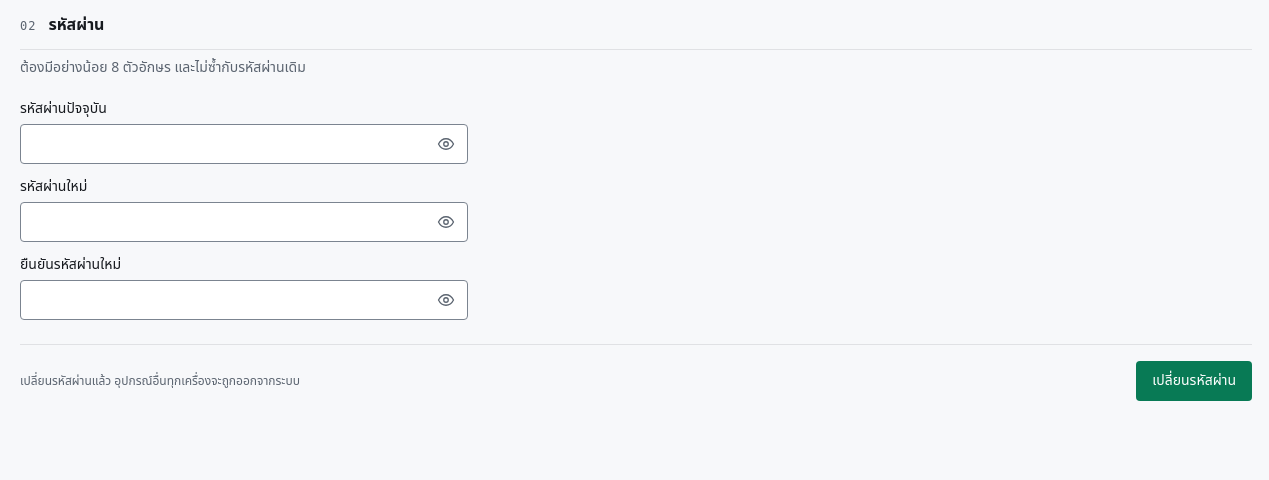
it: PasswordCard › changes the password with other sessions revoked, then resets and confirms
The width and height of the screenshot is (1269, 480).
Type "OldPassw0rd!" into the password field with test id "change-current-password".
click(244, 144); type("OldPassw0rd!")  # box [20,124,468,164]
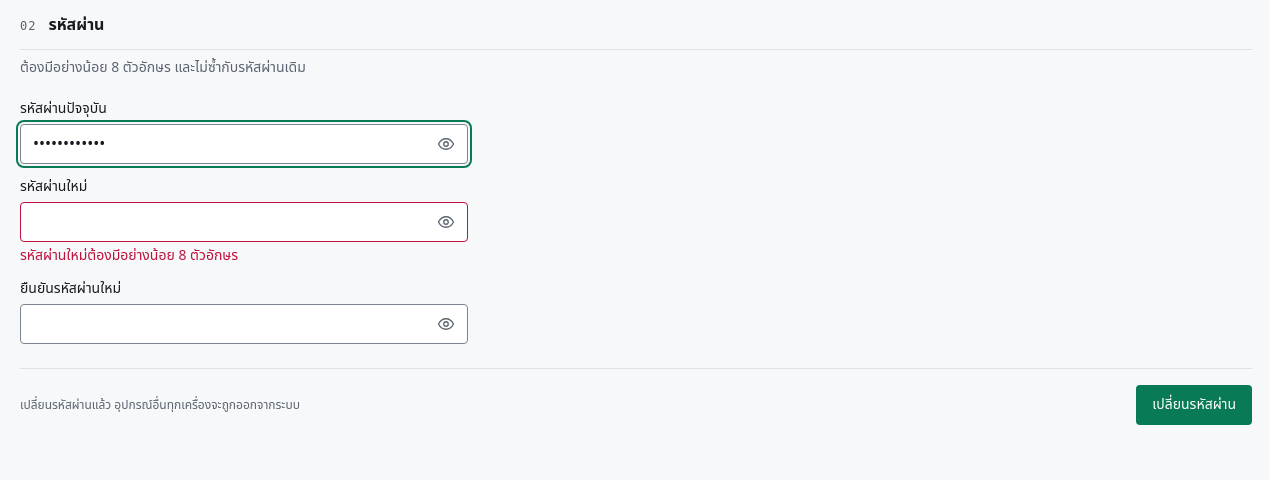
Type "NewPassw0rd!!" into the password field with test id "change-new-password".
click(244, 222); type("NewPassw0rd!!")  # box [20,202,468,242]
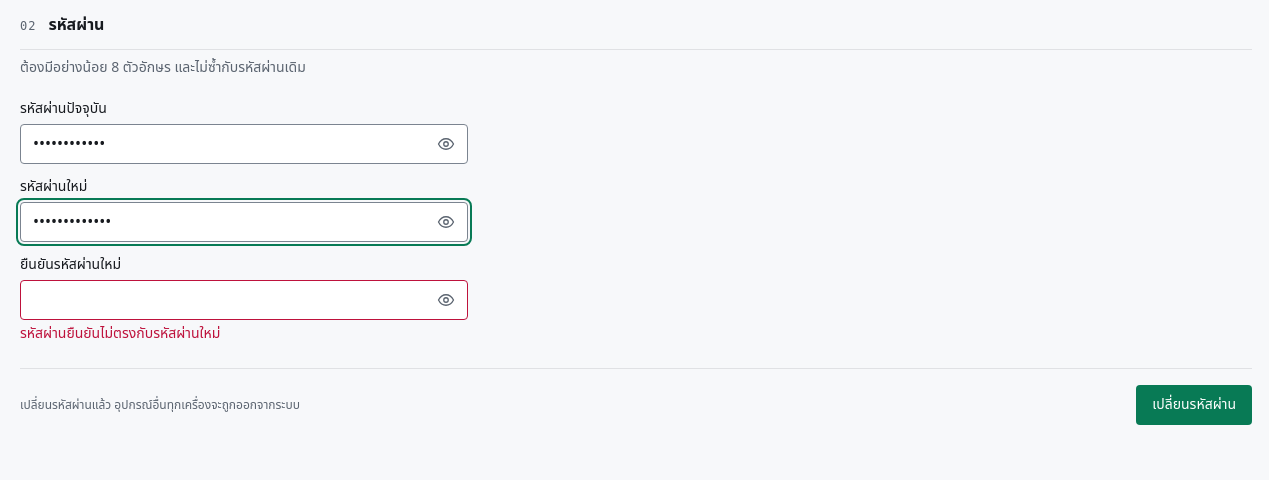
Type "NewPassw0rd!!" into the password field with test id "change-confirm-password".
click(244, 300); type("NewPassw0rd!!")  # box [20,280,468,320]
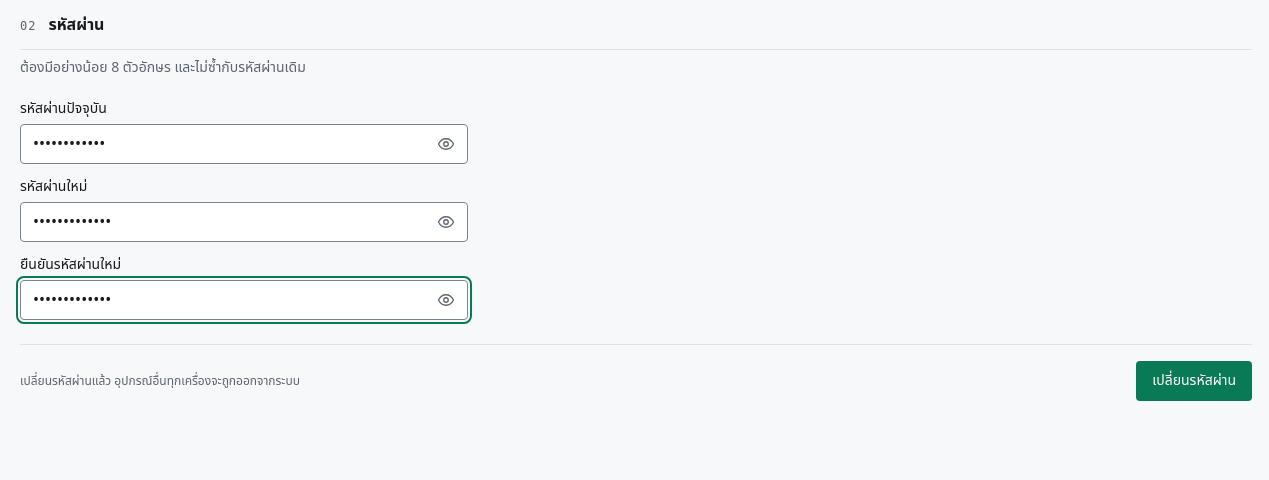
Click the button with test id "password-change-submit".
click(1194, 381)  # box [1136,361,1252,401]
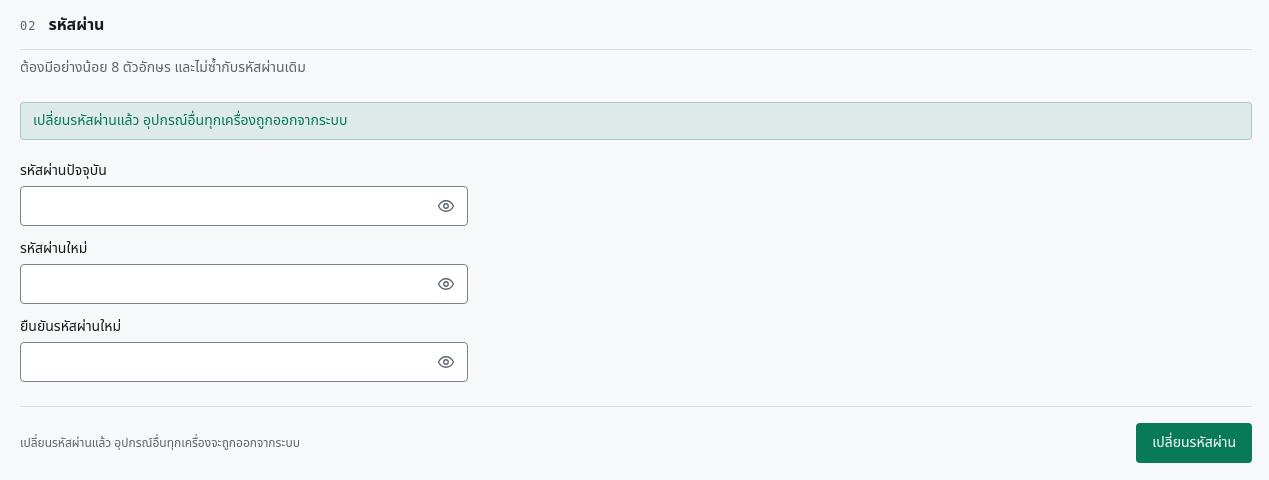
Check: the message "เปลี่ยนรหัสผ่านแล้ว อุปกรณ์อื่นทุกเครื่องถูกออกจากระบบ" is shown, box [20,102,1252,140]
Check: the password field with test id "change-current-password" is empty, box [20,186,468,226]
Check: the password field with test id "change-new-password" is empty, box [20,264,468,304]
